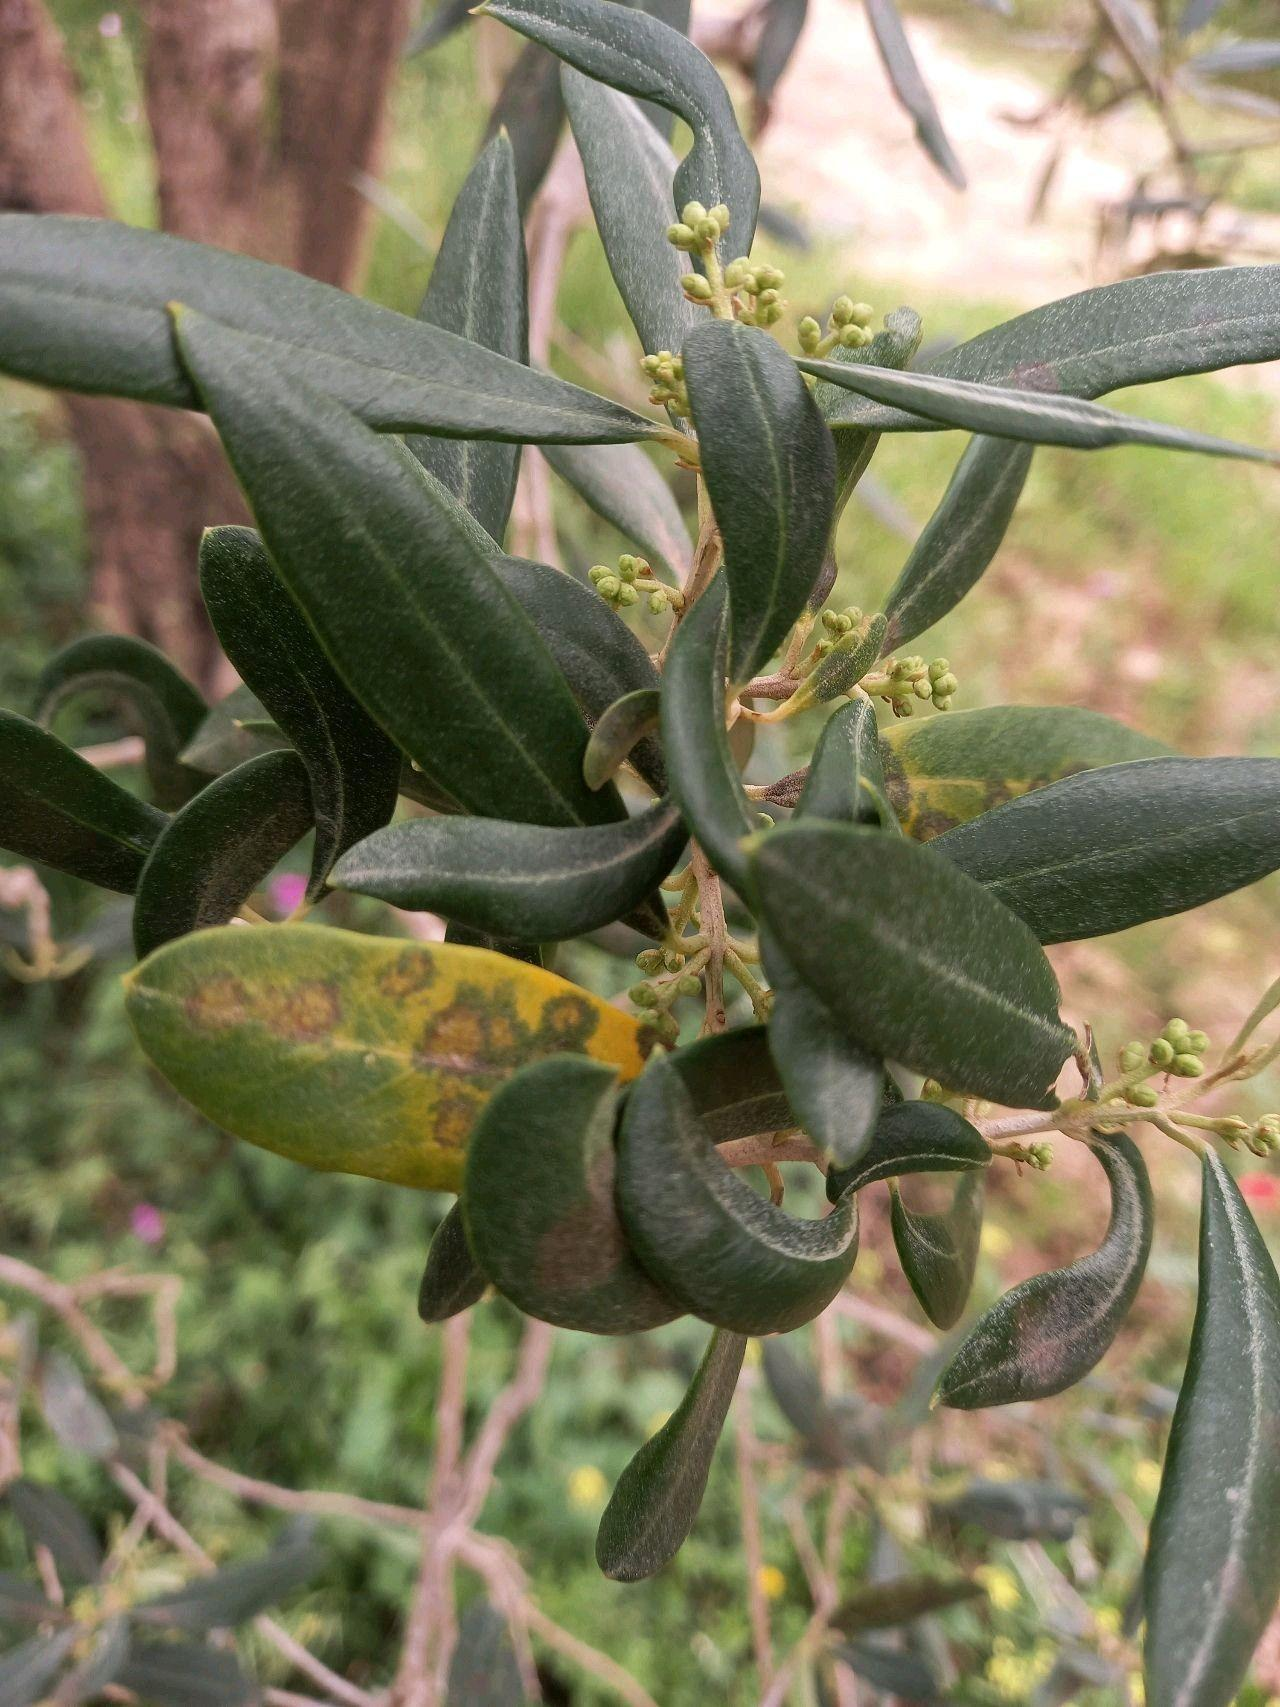OlivePeacockSpot: (116, 925, 663, 1187)
